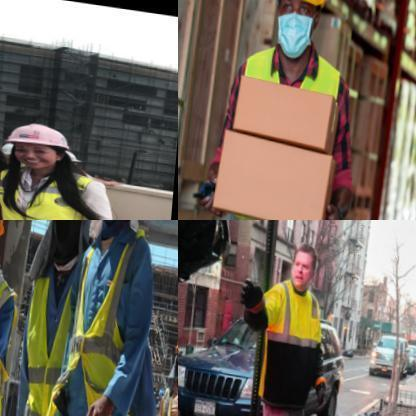vest: (225, 37, 351, 219), (66, 220, 160, 415), (15, 250, 83, 415), (260, 284, 329, 413), (0, 154, 109, 219), (0, 269, 25, 415)
